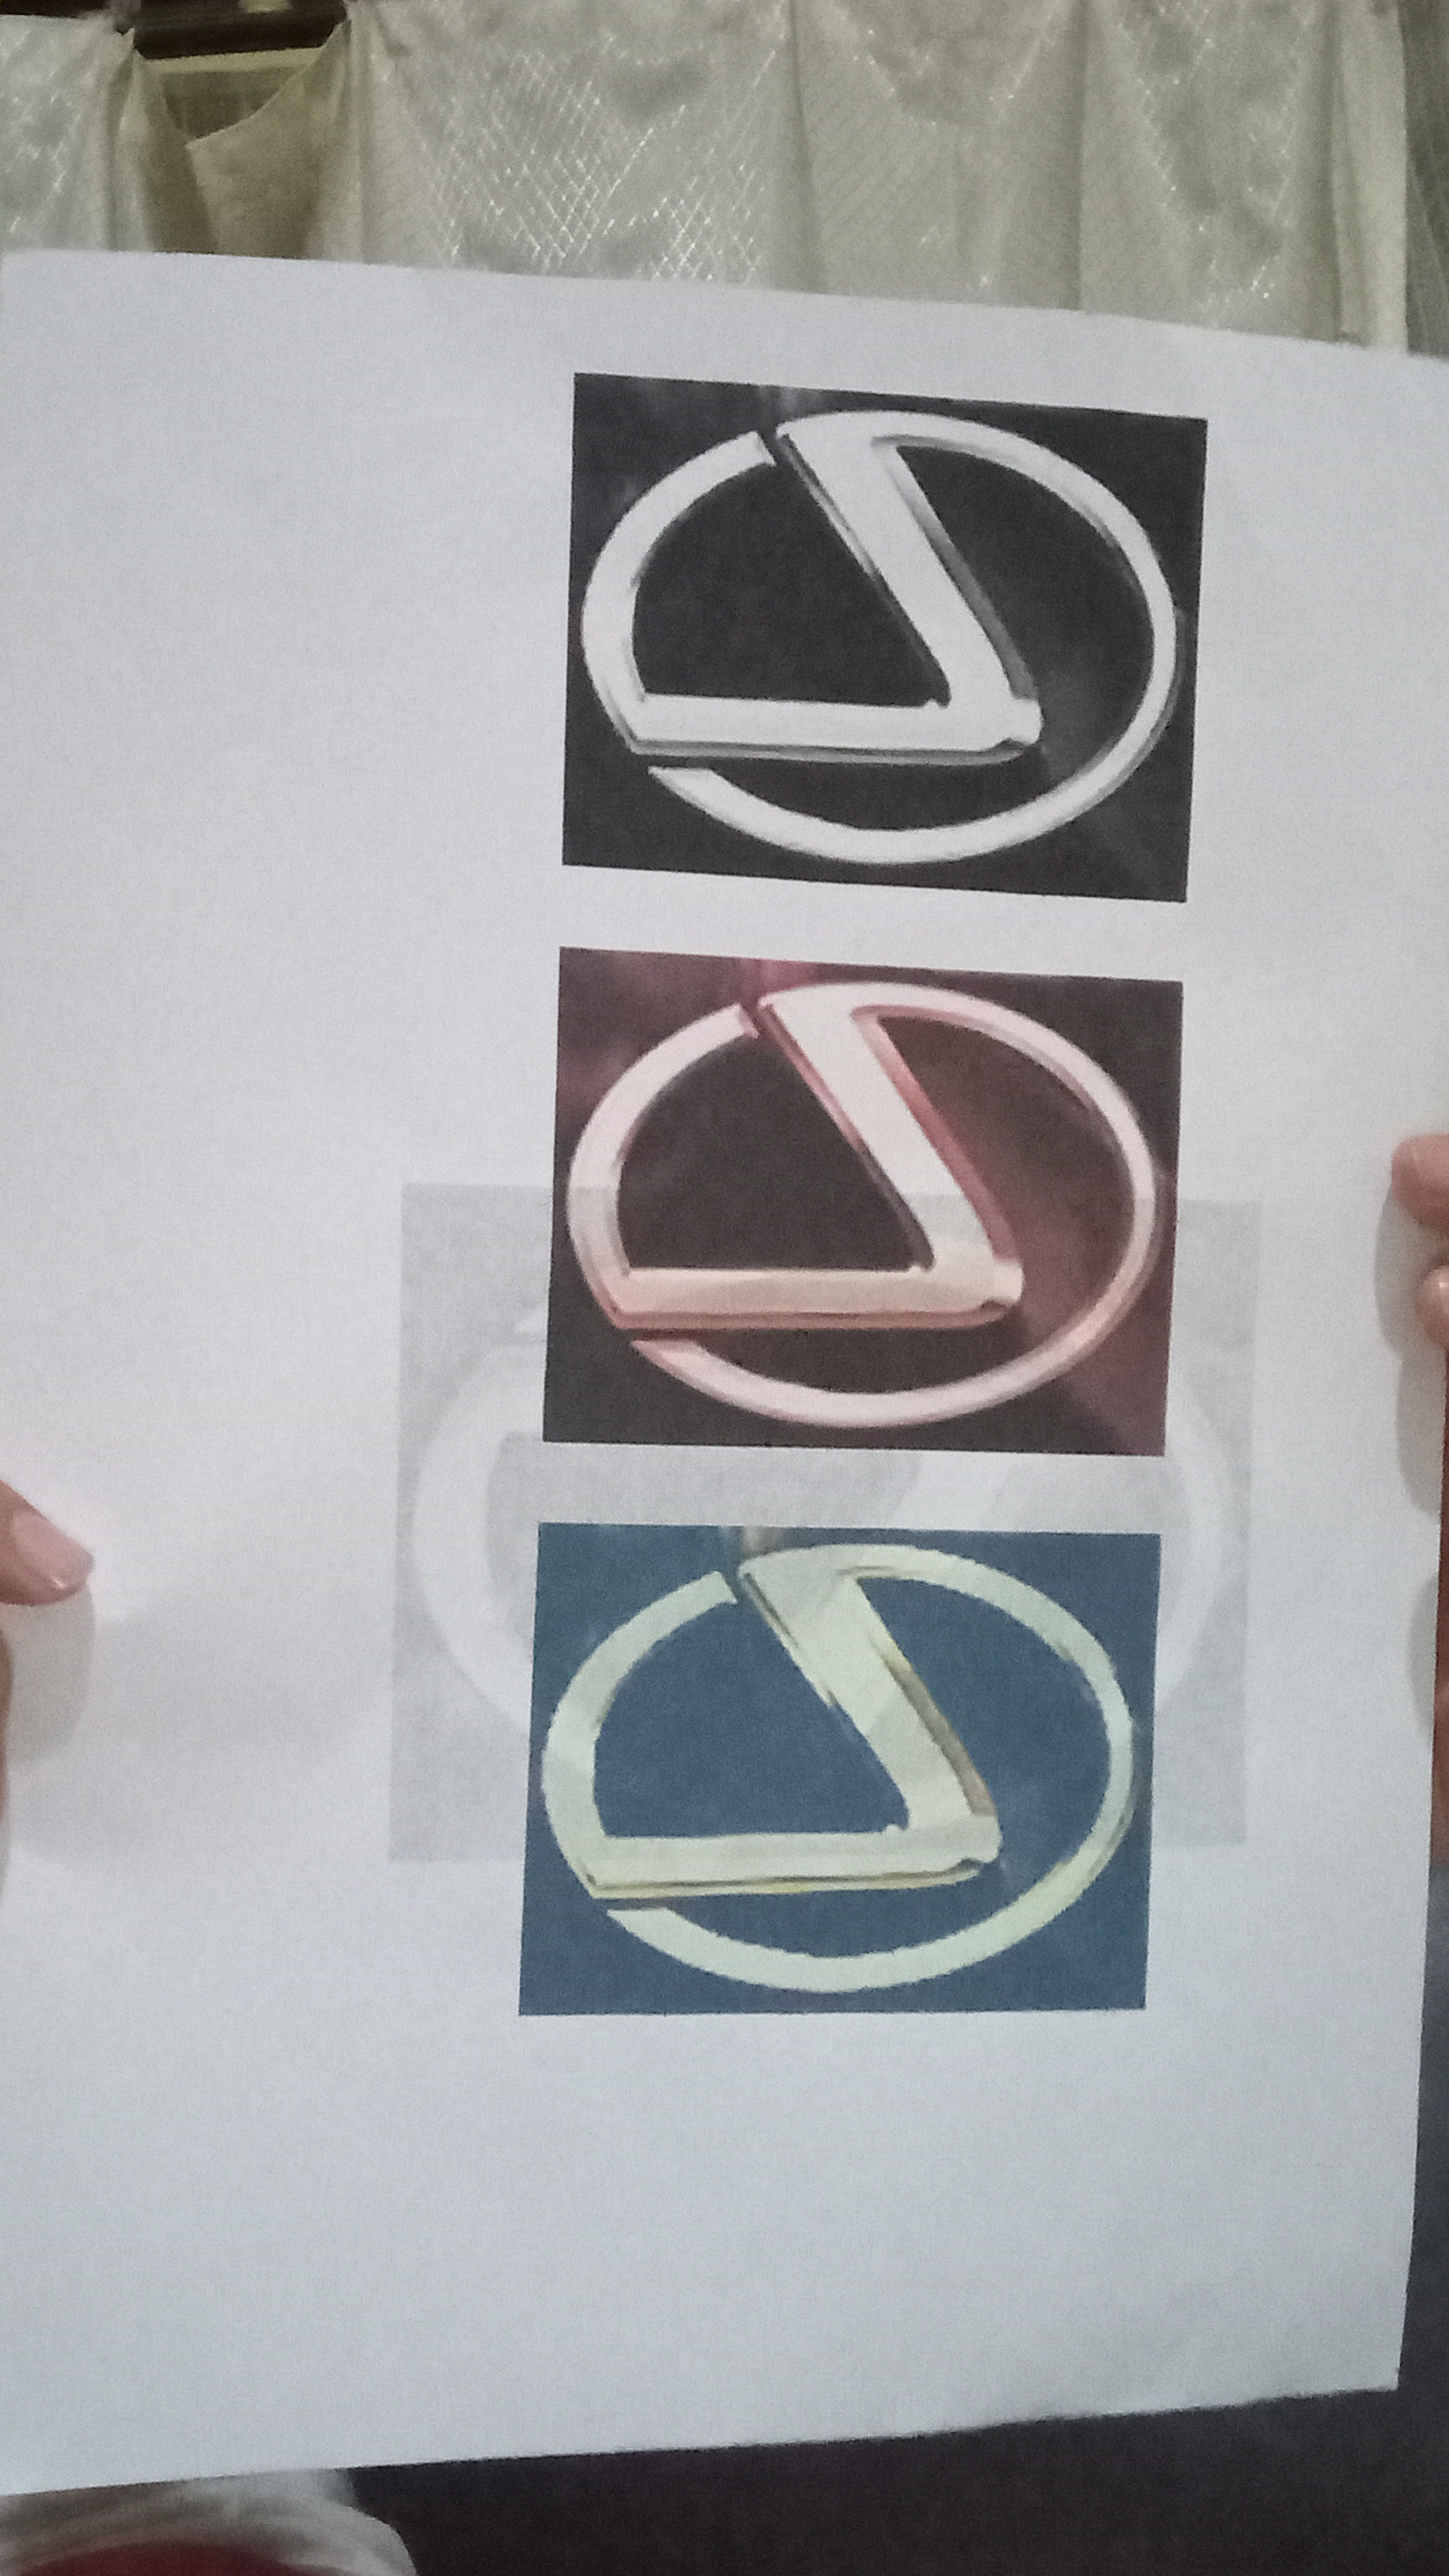Lexus: (575, 384, 1192, 892), (533, 1529, 1136, 2015), (557, 968, 1143, 1451)
